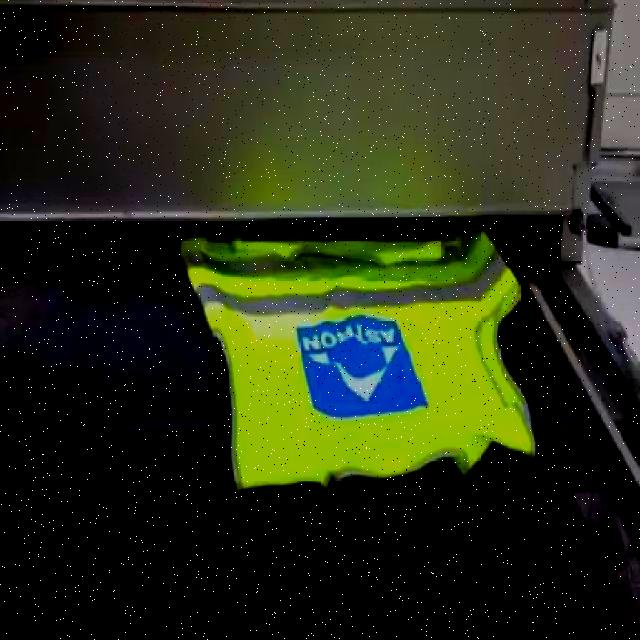Mask: (176, 232, 538, 494)
